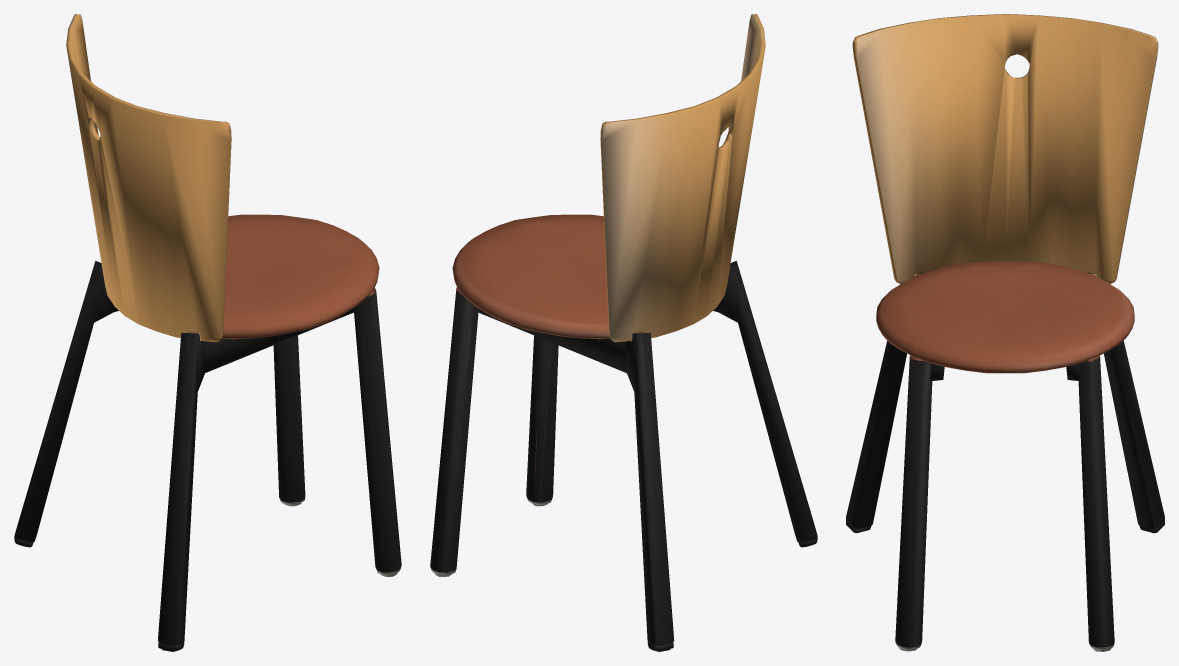
Rendered from wooden_v3.glb.
The picture shows the model from 3 angles, left to right: view 1: azimuth 30°, elevation 25°; view 2: azimuth 150°, elevation 25°; view 3: azimuth 270°, elevation 25°; orthographic projection.
Parts seen in each view (by area): view 1: tripo_node_5a490efd-19e0-4449-9ea2-d0337b78e44d; view 2: tripo_node_5a490efd-19e0-4449-9ea2-d0337b78e44d; view 3: tripo_node_5a490efd-19e0-4449-9ea2-d0337b78e44d.
Part boxes in pixels (x1,y1,x2,y2): tripo_node_5a490efd-19e0-4449-9ea2-d0337b78e44d: (14, 14, 401, 651); tripo_node_5a490efd-19e0-4449-9ea2-d0337b78e44d: (430, 14, 817, 651); tripo_node_5a490efd-19e0-4449-9ea2-d0337b78e44d: (846, 14, 1164, 651).
Bounding box in the file's own units: 0.5605 × 0.998 × 0.5566.
Materials: 1 (1 with a texture image).
